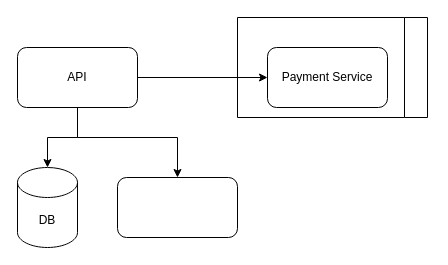
Some shapes in this 448 by 265 pixel diagram are drawn without their labels. Each missing label, with the box of its shape:
Cache Service: (116, 176, 238, 238)
Other External Services: (236, 16, 428, 118)
